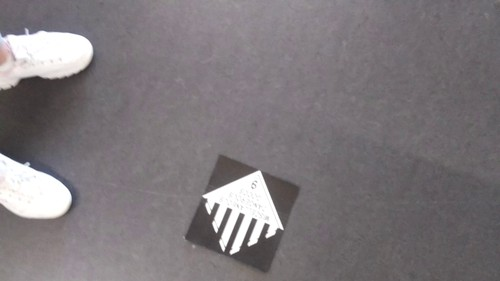misgoods: (201, 172, 289, 258)
